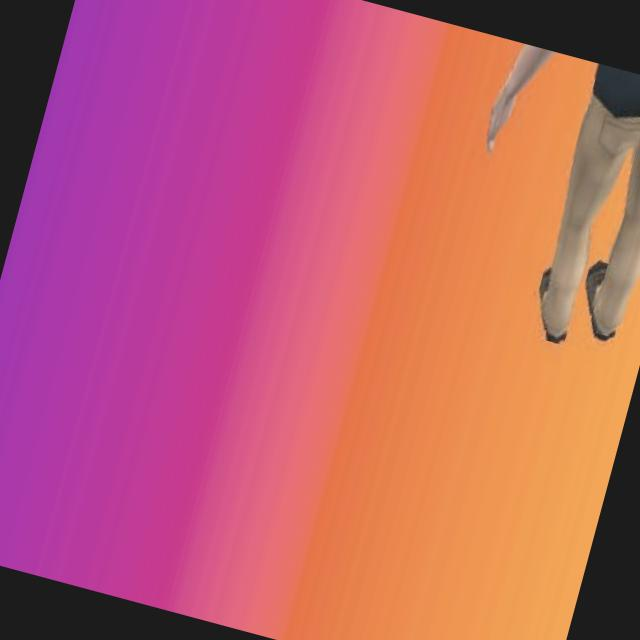Person: (431, 38, 640, 369)
